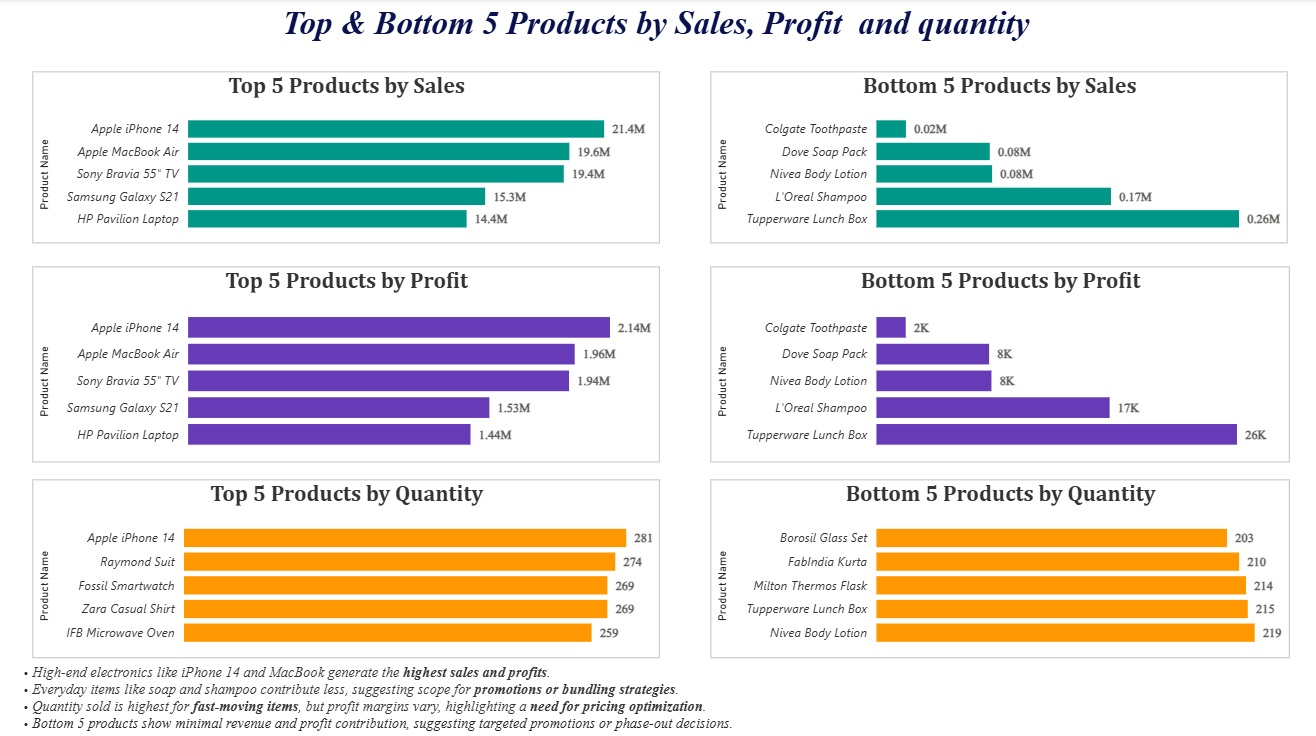

The dashboard page shown, as its layout file describes it:
{"tool":"powerbi","page":{"name":"Top & Bottom 5","canvas":[1280,720],"ordinal":1},"visuals":[{"type":"textbox","box":[10,0,1256.7,60],"z":0},{"type":"textbox","box":[10,640,1256.7,80],"z":1000},{"type":"barChart","title":"Top  5 Products by Sales","fields":{"Category":["Dim Product.Product Name"],"Y":["Sum(Fact Table.Net Sales   )"]},"box":[33.3,71.7,608.3,166.7],"z":2000},{"type":"barChart","title":"Bottom 5 Products by Sales","fields":{"Category":["Dim Product.Product Name"],"Y":["Sum(Fact Table.Net Sales   )"]},"box":[691.7,71.7,560,166.7],"z":3000},{"type":"barChart","title":"Top  5 Products by Quantity","fields":{"Category":["Dim Product.Product Name"],"Y":["Sum(Fact Table.Units Sold)"]},"box":[33.3,466.7,608.3,173.3],"z":4000},{"type":"barChart","title":"Bottom 5 Products by Quantity","fields":{"Category":["Dim Product.Product Name"],"Y":["Sum(Fact Table.Units Sold)"]},"box":[691.7,466.7,561.7,173.3],"z":5000},{"type":"barChart","title":"Top  5 Products by Profit","fields":{"Category":["Dim Product.Product Name"],"Y":["Sum(Fact Table.Profit)"]},"box":[33.3,260,608.3,190],"z":6000},{"type":"barChart","title":"Bottom 5 Products by Profit","fields":{"Category":["Dim Product.Product Name"],"Y":["Sum(Fact Table.Profit)"]},"box":[691.7,260,561.7,190],"z":7000}]}

Visuals, with their boxes in screenshot pixels (x1, y1, x2, y2), scaled from the page's 1280x720 canvas onto the 1316x736 screenshot:
textbox: (x1=10, y1=0, x2=1302, y2=61)
textbox: (x1=10, y1=654, x2=1302, y2=735)
"Top  5 Products by Sales" barChart: (x1=34, y1=73, x2=660, y2=244)
"Bottom 5 Products by Sales" barChart: (x1=711, y1=73, x2=1287, y2=244)
"Top  5 Products by Quantity" barChart: (x1=34, y1=477, x2=660, y2=654)
"Bottom 5 Products by Quantity" barChart: (x1=711, y1=477, x2=1289, y2=654)
"Top  5 Products by Profit" barChart: (x1=34, y1=266, x2=660, y2=460)
"Bottom 5 Products by Profit" barChart: (x1=711, y1=266, x2=1289, y2=460)
